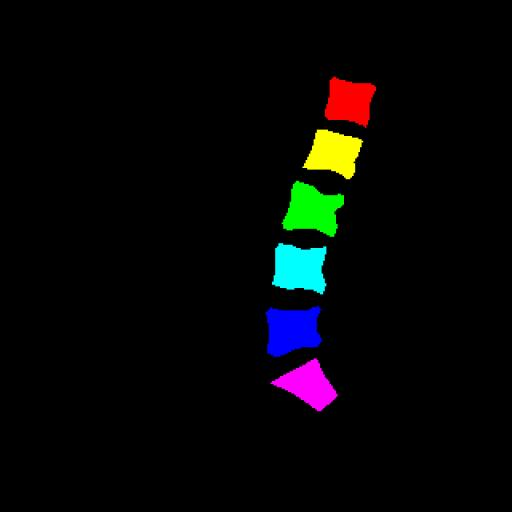L1: (325, 77, 376, 127)
L2: (303, 130, 363, 179)
L3: (282, 181, 344, 237)
L4: (272, 243, 326, 294)
L5: (266, 306, 321, 357)
S1: (271, 358, 337, 411)
